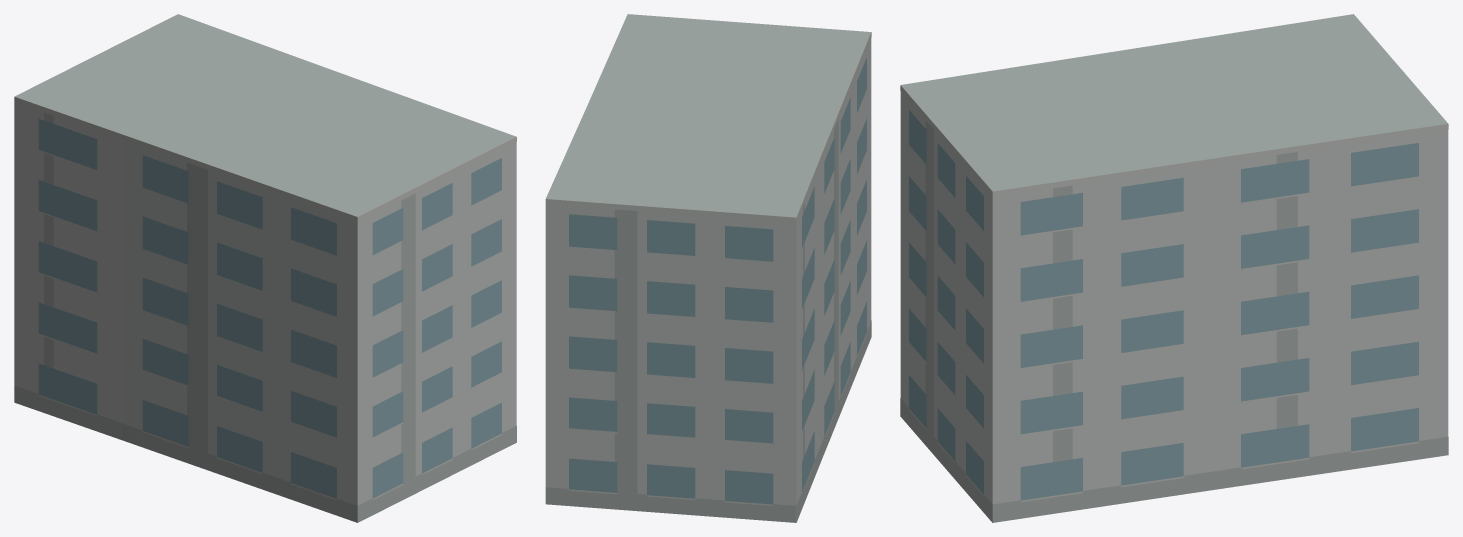
File: survey-upis-32953117.glb
3 renders of one model, left to right at view 1: azimuth 30°, elevation 25°; view 2: azimuth 150°, elevation 25°; view 3: azimuth 270°, elevation 25°, orthographic. The views are drawn at different scales.
Parts seen in each view (by area): view 1: survey-upis-32953117.tmp; view 2: survey-upis-32953117.tmp; view 3: survey-upis-32953117.tmp.
Part boxes in pixels (bbox=[...]): survey-upis-32953117.tmp: bbox=[14, 14, 516, 522]; survey-upis-32953117.tmp: bbox=[545, 14, 871, 522]; survey-upis-32953117.tmp: bbox=[900, 14, 1448, 522].
Size of the model in its own units: 15.84 by 13.78 by 20.66.
